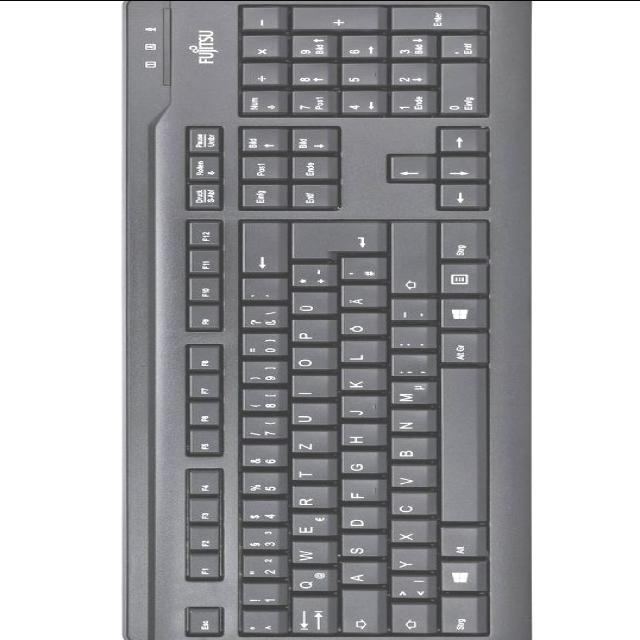0: (237, 334, 285, 358)
1: (237, 584, 283, 608)
2: (237, 556, 283, 580)
3: (237, 528, 283, 552)
4: (237, 500, 283, 524)
5: (237, 473, 283, 497)
6: (237, 445, 283, 469)
7: (237, 418, 283, 440)
8: (237, 390, 285, 414)
9: (237, 362, 285, 386)
a: (337, 563, 382, 587)
accent: (238, 279, 283, 303)
ae: (337, 286, 383, 310)
alt-left: (436, 528, 481, 559)
altgr-right: (437, 334, 482, 366)
b: (386, 438, 431, 462)
c: (387, 494, 430, 518)
caret: (236, 613, 282, 637)
comma: (385, 355, 433, 379)
d: (336, 508, 382, 532)
del: (237, 223, 281, 275)
e: (287, 515, 332, 539)
enter: (285, 223, 385, 261)
f: (337, 481, 382, 503)
g: (337, 453, 382, 475)
h: (337, 424, 381, 448)
hash: (336, 258, 384, 282)
i: (287, 377, 331, 399)
j: (336, 396, 384, 420)
k: (336, 369, 382, 393)
keyboard: (115, 0, 533, 640)
l: (336, 341, 384, 365)
less: (386, 577, 432, 601)
m: (385, 383, 433, 407)
minus: (386, 300, 432, 324)
n: (387, 410, 431, 434)
o: (287, 348, 333, 372)
oe: (337, 314, 383, 338)
p: (287, 321, 332, 345)
plus: (286, 265, 335, 289)
point: (387, 327, 431, 351)
q: (287, 570, 333, 594)
r: (287, 487, 332, 511)
s: (337, 535, 382, 559)
shift-left: (387, 605, 431, 636)
shift-lock: (337, 590, 379, 635)
shift-right: (386, 223, 432, 296)
space: (436, 368, 482, 524)
ss: (237, 307, 283, 331)
strg-left: (435, 597, 483, 637)
strg-right: (436, 221, 485, 262)
t: (287, 460, 331, 482)
tab: (287, 598, 331, 636)
u: (287, 404, 333, 428)
ue: (287, 293, 333, 317)
v: (386, 466, 430, 490)
w: (287, 542, 331, 566)
x: (387, 521, 431, 545)
y: (387, 549, 431, 573)
z: (287, 432, 331, 454)
